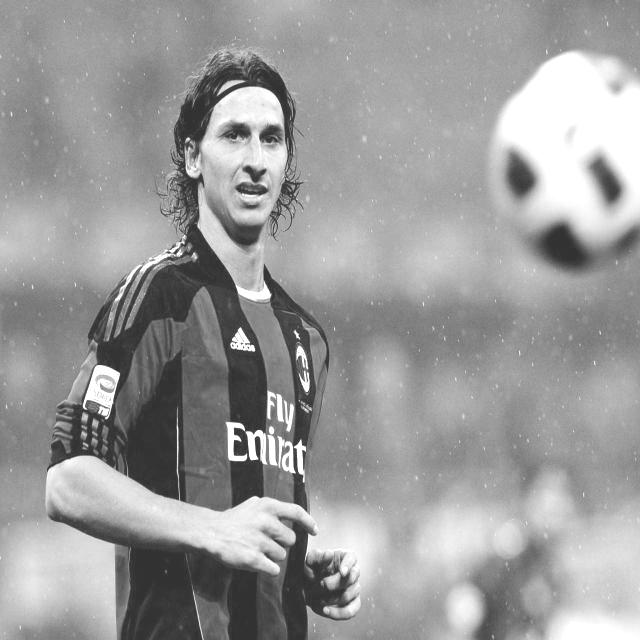real: (207, 98, 285, 226)
